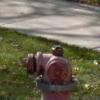Hydrant: (16, 31, 83, 100)
